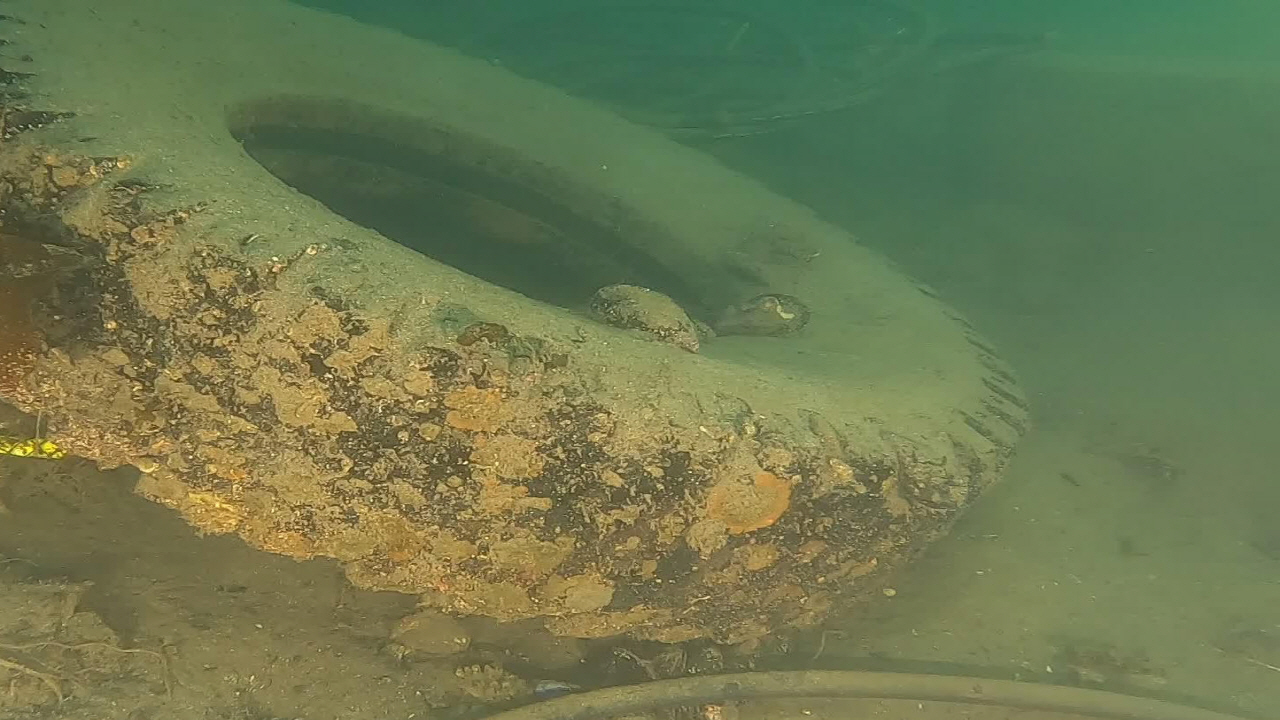tire: (0, 0, 1032, 643)
